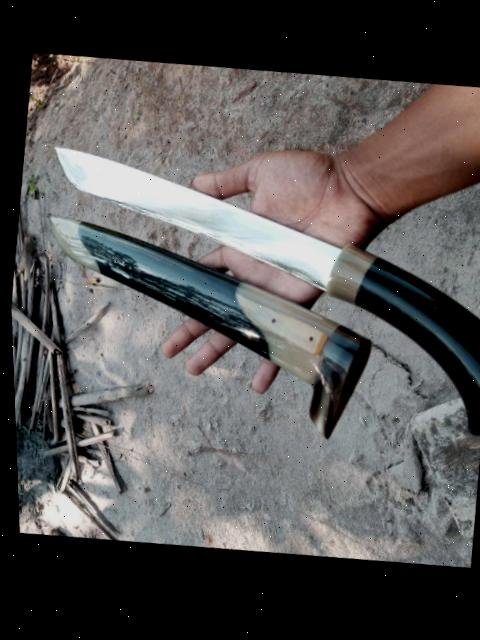long knife: (20, 128, 480, 455)
